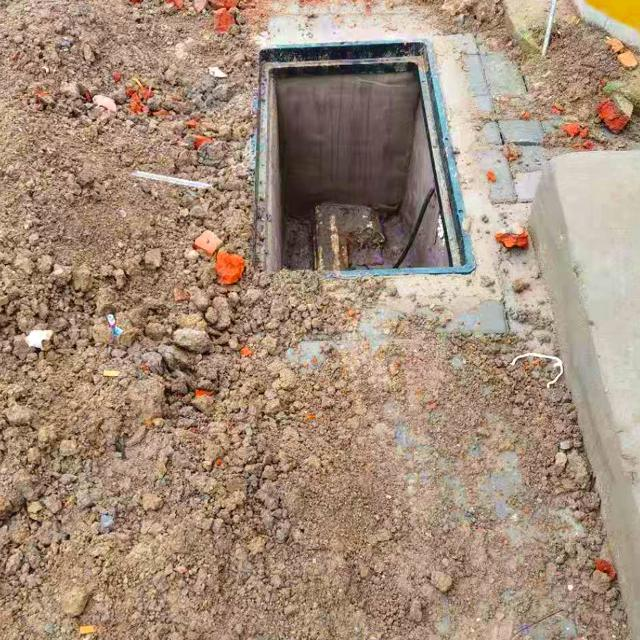lose: (237, 33, 479, 290)
